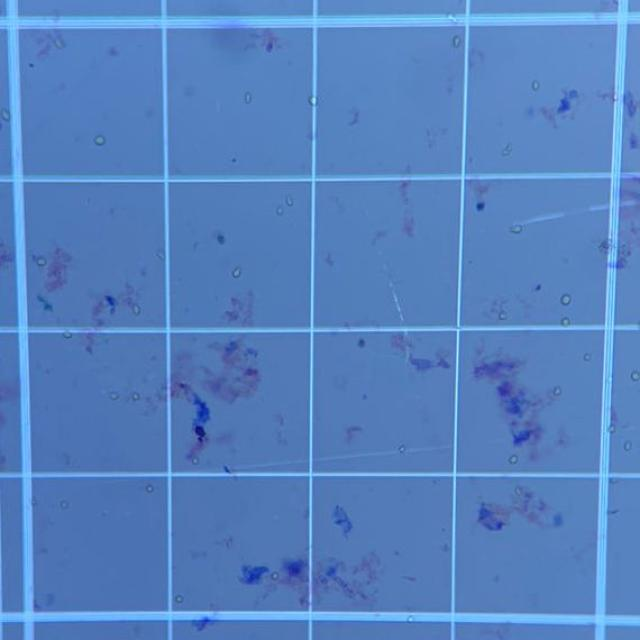Cell: (347, 108, 361, 126), (552, 512, 564, 528), (53, 37, 65, 49), (325, 252, 334, 267), (560, 294, 572, 305), (94, 135, 106, 146), (508, 454, 519, 465), (108, 46, 119, 57), (307, 129, 317, 141), (502, 144, 512, 156), (630, 370, 640, 382), (1, 108, 10, 121), (36, 257, 47, 267), (510, 225, 522, 234), (244, 92, 253, 104), (452, 36, 461, 48), (552, 386, 562, 396), (623, 441, 633, 451), (232, 268, 242, 278), (447, 14, 457, 24), (132, 304, 141, 315), (217, 233, 226, 244), (561, 316, 570, 326), (174, 594, 183, 604), (109, 392, 119, 401), (531, 80, 540, 90), (285, 196, 294, 206), (308, 95, 317, 105), (357, 338, 366, 348), (606, 509, 620, 515), (60, 500, 69, 509), (63, 331, 72, 340), (131, 392, 140, 401), (270, 572, 280, 580), (276, 206, 284, 216), (442, 543, 450, 553), (583, 353, 592, 361), (499, 312, 507, 321), (156, 251, 164, 260), (514, 487, 523, 495), (146, 484, 154, 492), (398, 445, 406, 453), (191, 457, 199, 465), (609, 424, 616, 433), (612, 92, 618, 101), (407, 615, 414, 622), (32, 498, 38, 506), (610, 478, 618, 484), (607, 376, 613, 383)
